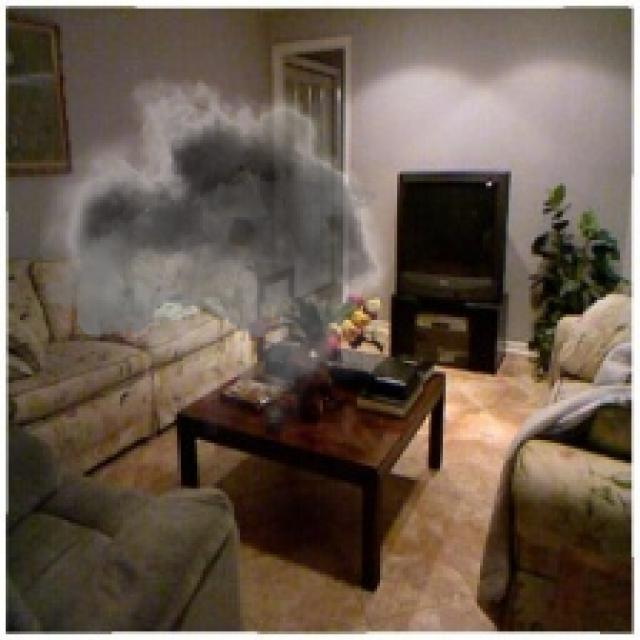Smoke: (40, 60, 409, 437)
